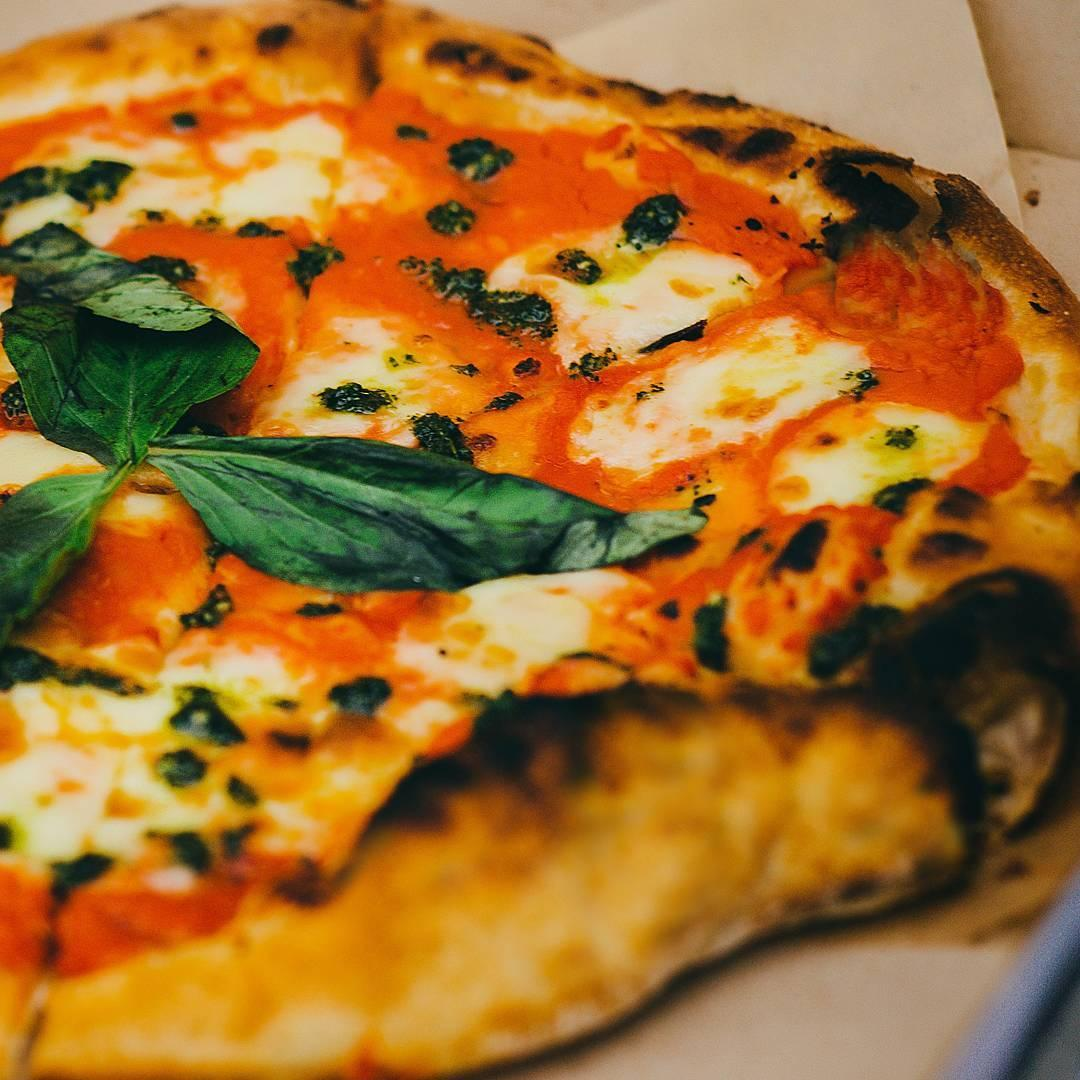Basil: (161, 431, 699, 577), (8, 231, 249, 450), (1, 456, 147, 645)
Pizza: (3, 8, 1080, 1080)
